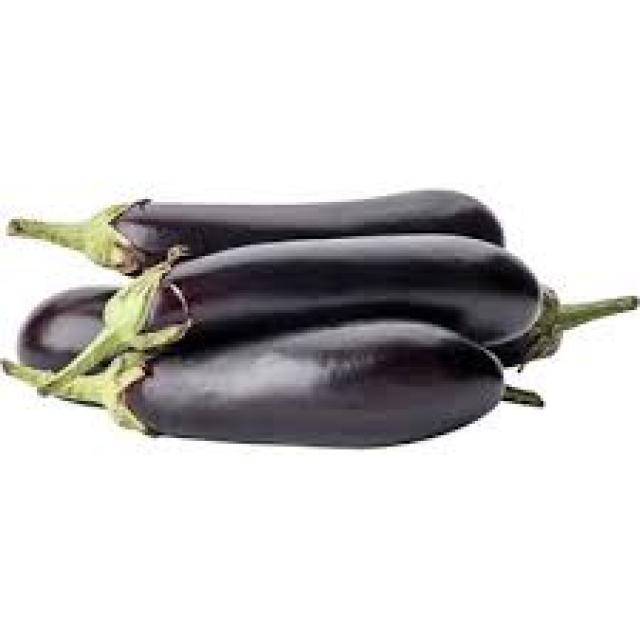eggplant: (59, 316, 500, 446), (82, 233, 540, 344), (60, 188, 503, 276)
